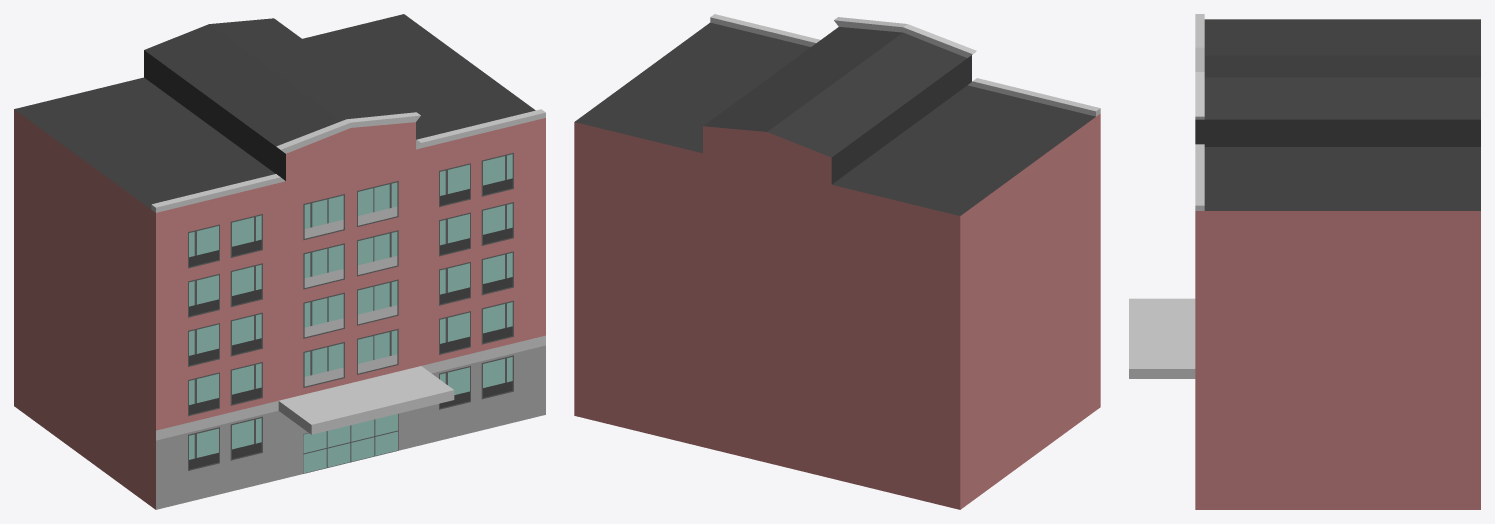
Rendered from bldg g.fbx.
3 renders of one model, left to right at view 1: azimuth 30°, elevation 25°; view 2: azimuth 150°, elevation 25°; view 3: azimuth 270°, elevation 25°, orthographic.
Parts seen in each view (by area): view 1: Plane.001; view 2: Plane.001; view 3: Plane.001.
Boxes of the visible parts, x1=… form: Plane.001: x1=14, y1=14, x2=545, y2=509; Plane.001: x1=574, y1=14, x2=1100, y2=509; Plane.001: x1=1129, y1=14, x2=1480, y2=509.
Size of the model in its own units: 820 by 682 by 636.
